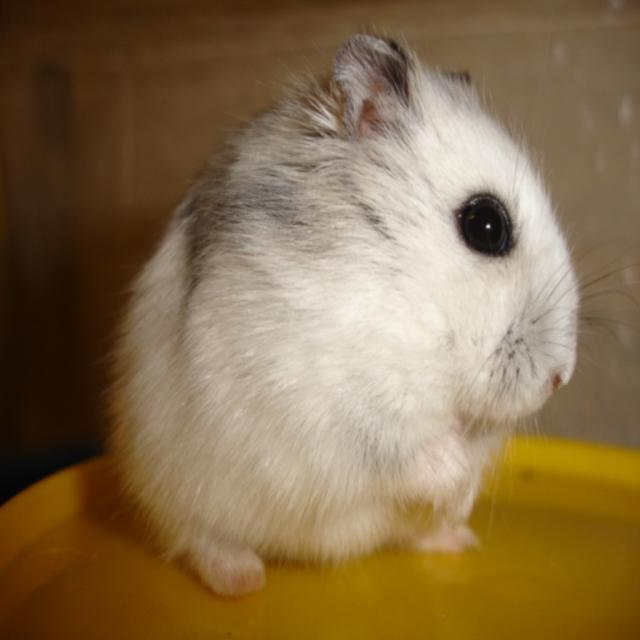rat: (92, 14, 639, 600)
